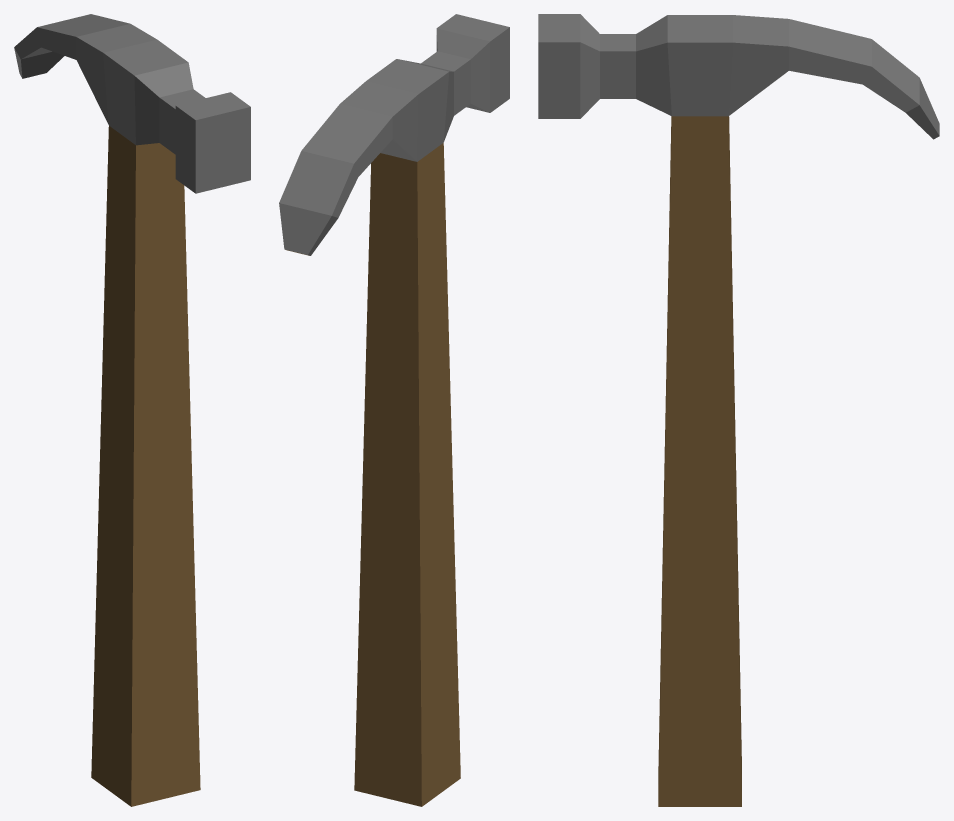
File: hammer.glb
3 renders of one model, left to right at view 1: azimuth 30°, elevation 25°; view 2: azimuth 150°, elevation 25°; view 3: azimuth 270°, elevation 25°, orthographic. The views are drawn at different scales.
Visible parts, largest first — view 1: Cube; view 2: Cube; view 3: Cube.
Boxes of the visible parts, x1,y1,x2,y2 form: Cube: [14, 14, 250, 806]; Cube: [279, 14, 509, 806]; Cube: [538, 14, 939, 806].
Size of the model in its own units: 0.0645 by 0.6466 by 0.3092.
